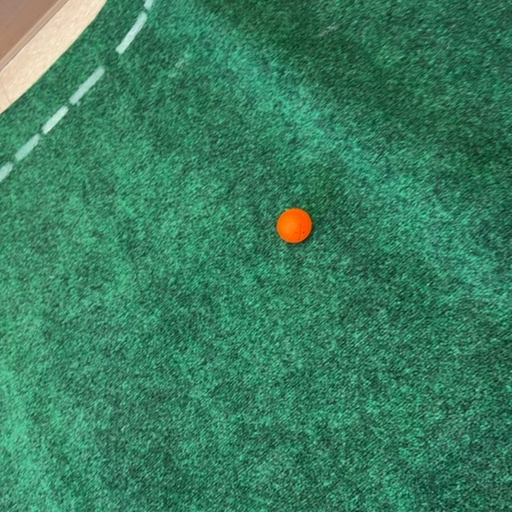Ball: (277, 208, 312, 243)
